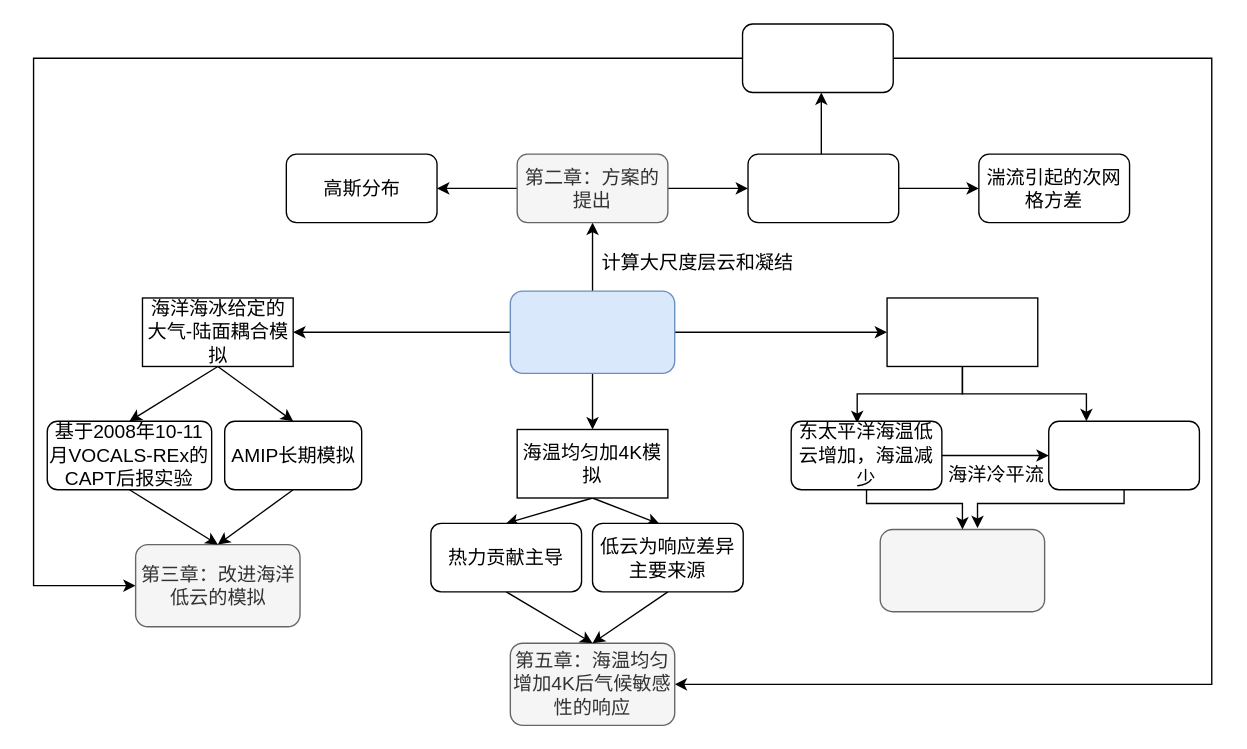
This 1247x749 diagram has some shape labels left out. Each missing label, with the box of its shape:
Gauss-PDF统计云宏物理方案: (509, 290, 675, 373)
中太平洋海温降低，降水减少: (1047, 420, 1199, 490)
次网格变率 （方差）: (747, 153, 899, 223)
浅对流引起的次网格方差: (741, 23, 893, 92)
海陆气全耦合模拟: (886, 297, 1038, 366)
第四章：改进太平洋双赤道辐合带降水模拟: (879, 528, 1045, 612)
